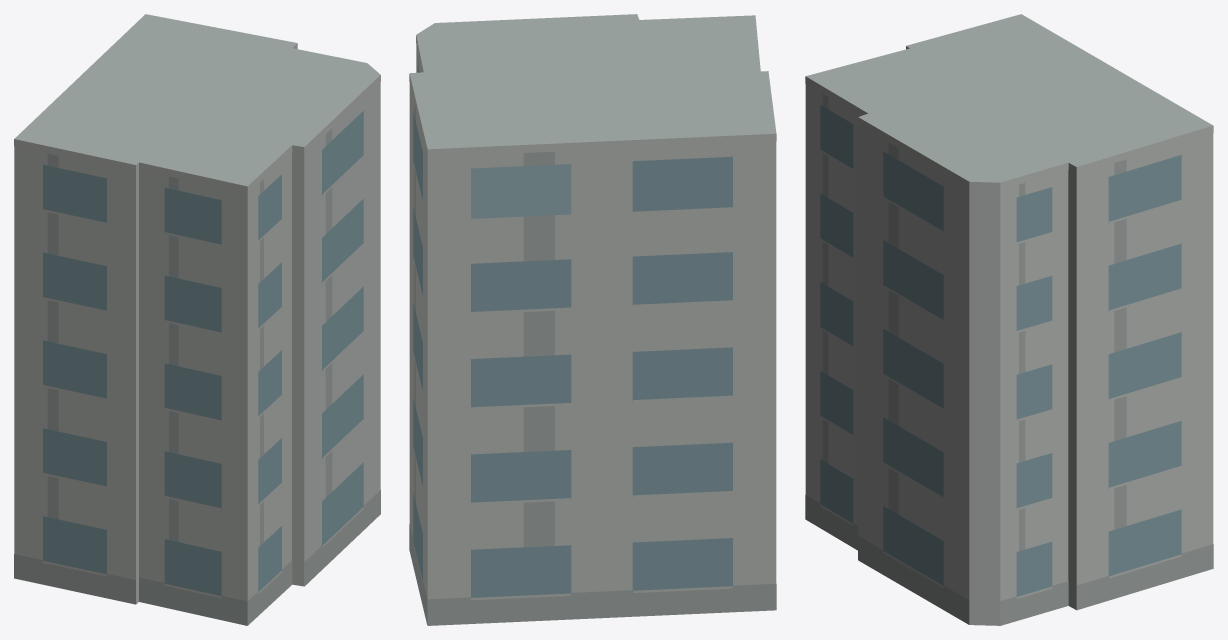
Rendered from survey-upis-32496094.glb.
3 views of the same model, side by side, from view 1: azimuth 30°, elevation 25°; view 2: azimuth 150°, elevation 25°; view 3: azimuth 270°, elevation 25° (orthographic). The views are drawn at different scales.
Visible parts, largest first — view 1: survey-upis-32496094.tmp; view 2: survey-upis-32496094.tmp; view 3: survey-upis-32496094.tmp.
Part boxes in pixels (x1=…): survey-upis-32496094.tmp: x1=14, y1=14, x2=380, y2=625; survey-upis-32496094.tmp: x1=409, y1=14, x2=776, y2=625; survey-upis-32496094.tmp: x1=805, y1=14, x2=1213, y2=625.
Size of the model in its own units: 11.84 by 14.5 by 12.1.
